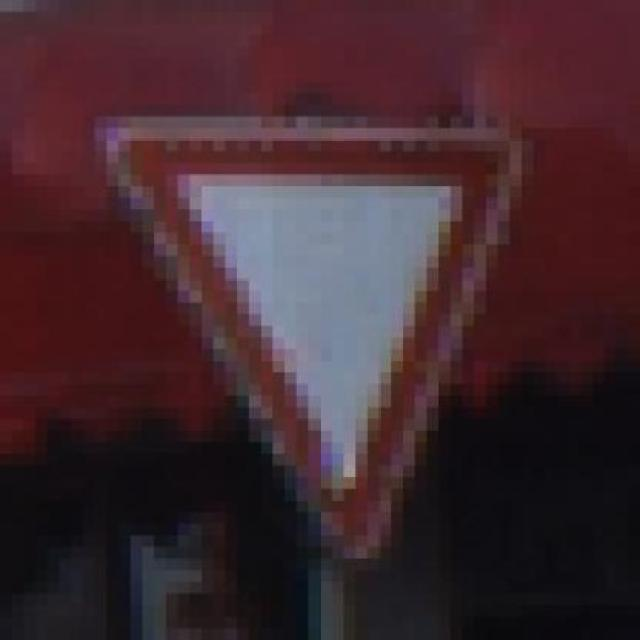Give Way: (71, 81, 557, 582)
